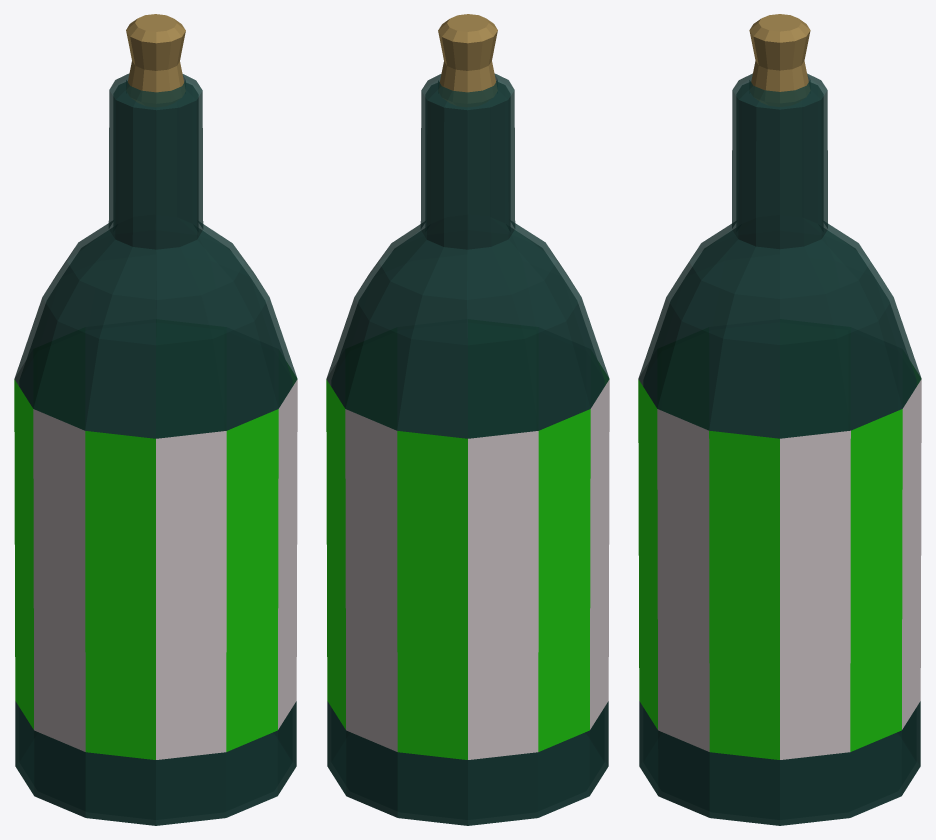
File: Wine Bottle 5.fbx
3 views of the same model, side by side, from view 1: azimuth 30°, elevation 25°; view 2: azimuth 150°, elevation 25°; view 3: azimuth 270°, elevation 25° (orthographic).
Parts seen in each view (by area): view 1: Wine Bottle 5, Cork; view 2: Wine Bottle 5, Cork; view 3: Wine Bottle 5, Cork.
Boxes of the visible parts, bbox=[...] form: Wine Bottle 5: bbox=[14, 73, 297, 825]; Cork: bbox=[126, 14, 185, 106]; Wine Bottle 5: bbox=[326, 73, 609, 825]; Cork: bbox=[438, 14, 497, 106]; Wine Bottle 5: bbox=[638, 73, 921, 825]; Cork: bbox=[749, 14, 810, 106].
Size of the model in its own units: 161 by 467 by 161.
